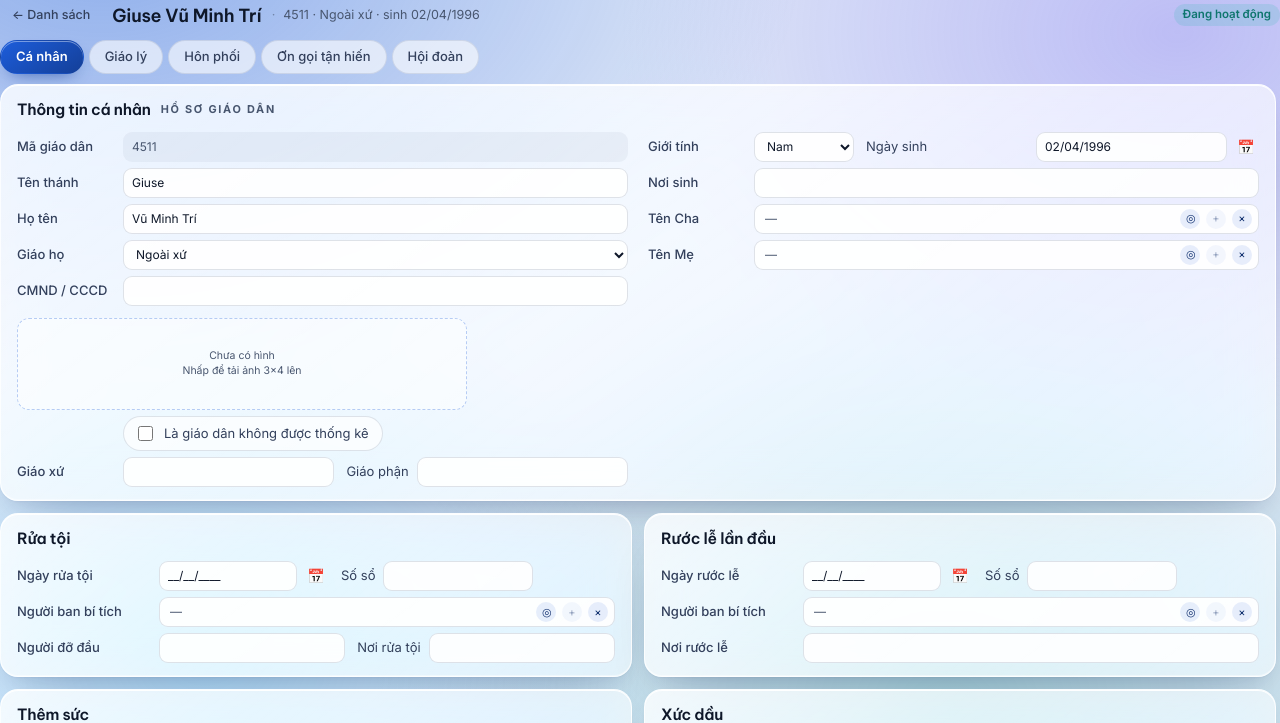
Scenario: GiaoDanDetailPage › tai danh sach tan hien that tu API va hien trong tab
This screenshot has width=1280, height=723.
Expected: the heading "Giuse Vũ Minh Trí" is shown, top-left (112, 2), bottom-right (262, 28)
Click the tab "Ơn gọi tận hiến": (324, 57) top-left (261, 40), bottom-right (387, 74)
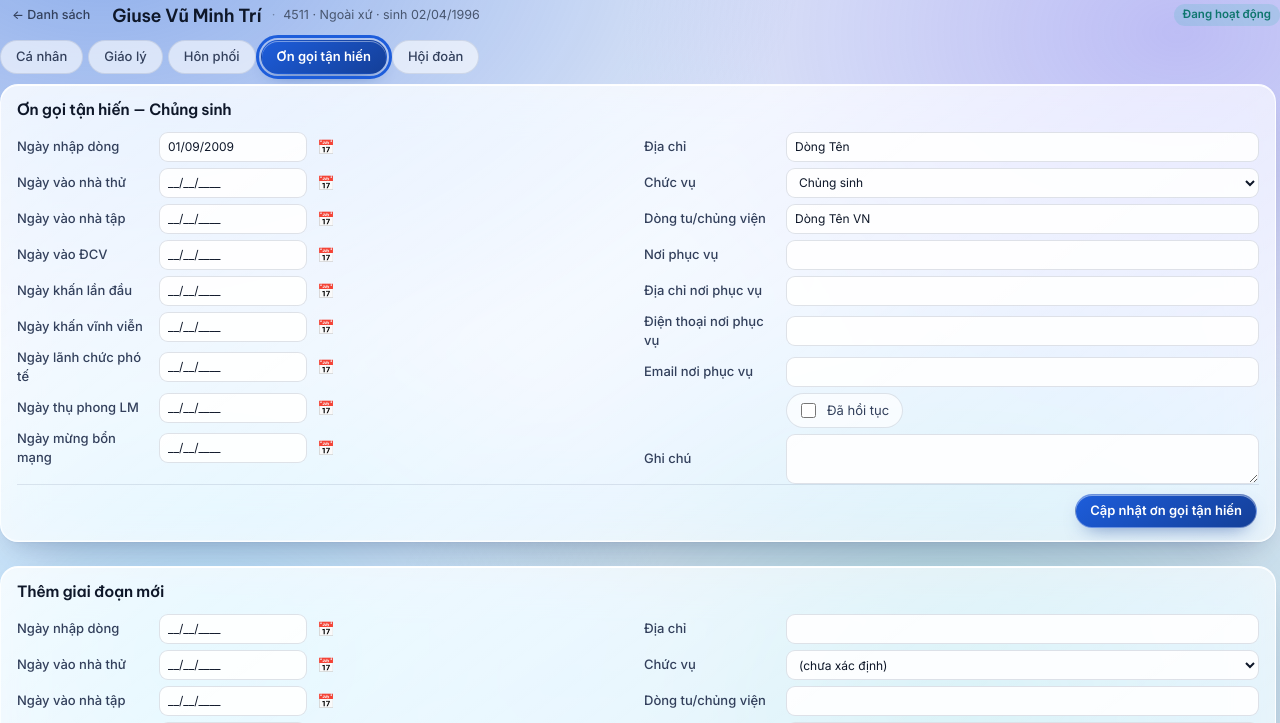
Expected: the 1st field showing "Dòng Tên VN" is shown, top-left (786, 204), bottom-right (1259, 234)
